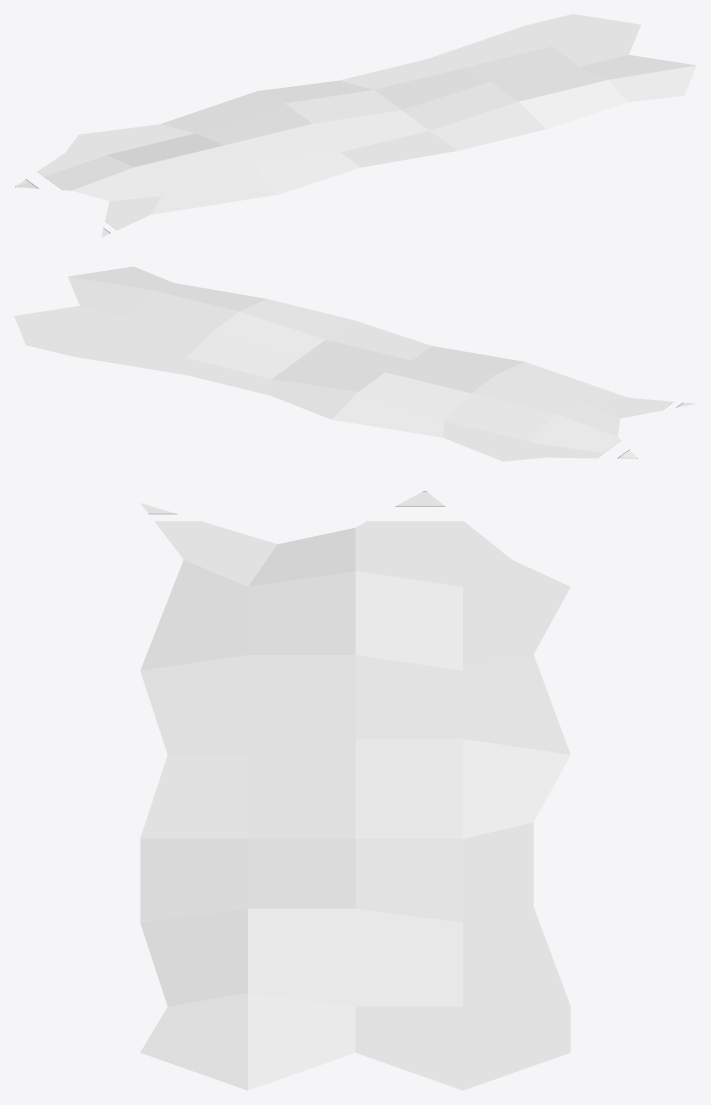
File: sticker.fbx
3 renders of one model, top to bottom at view 1: azimuth 30°, elevation 25°; view 2: azimuth 150°, elevation 25°; view 3: azimuth 270°, elevation 25°, orthographic. The views are drawn at different scales.
Visible parts, largest first — view 1: sticker; view 2: sticker; view 3: sticker.
Part boxes in pixels (x1,y1,x2,y2): sticker: [15, 14, 696, 237]; sticker: [14, 266, 696, 461]; sticker: [140, 491, 570, 1090].
Bounding box in the file's own units: 204 × 2.51 × 61.92.
1 material, 1 textured.
